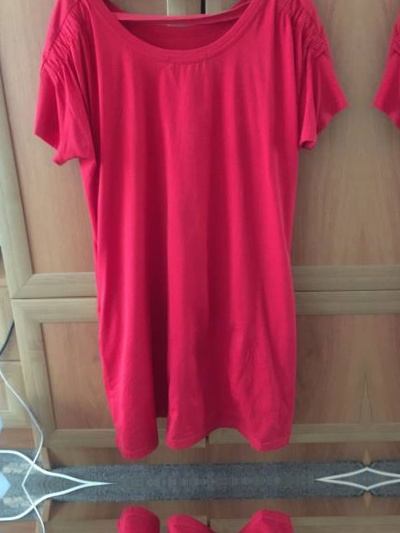Dress: (22, 0, 350, 464), (376, 0, 400, 457), (31, 501, 359, 533), (386, 495, 400, 533)
